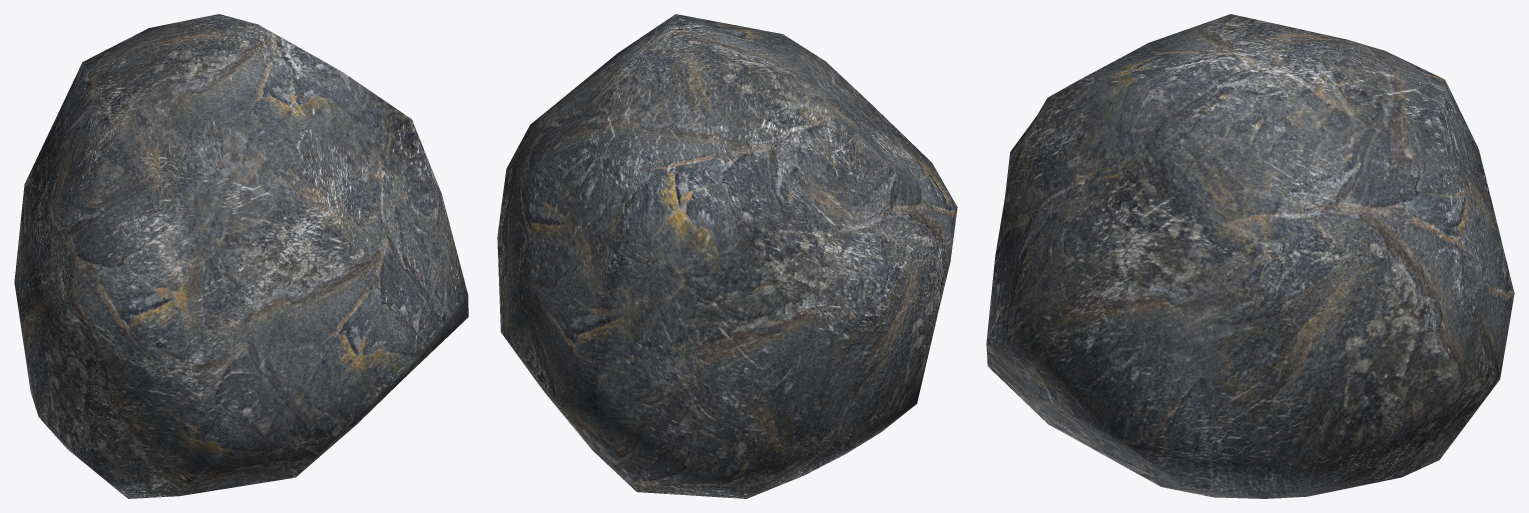
File: rock_01.fbx
3 views of the same model, side by side, from view 1: azimuth 30°, elevation 25°; view 2: azimuth 150°, elevation 25°; view 3: azimuth 270°, elevation 25° (orthographic). The views are drawn at different scales.
Parts seen in each view (by area): view 1: rock_01; view 2: rock_01; view 3: rock_01.
Boxes of the visible parts, left/top/right/bottom form: rock_01: left=14, top=14, right=468, bottom=498; rock_01: left=497, top=14, right=957, bottom=498; rock_01: left=986, top=14, right=1514, bottom=498.
Bounding box in the file's own units: 1.66 × 1.67 × 1.77.
1 material, 1 textured.
